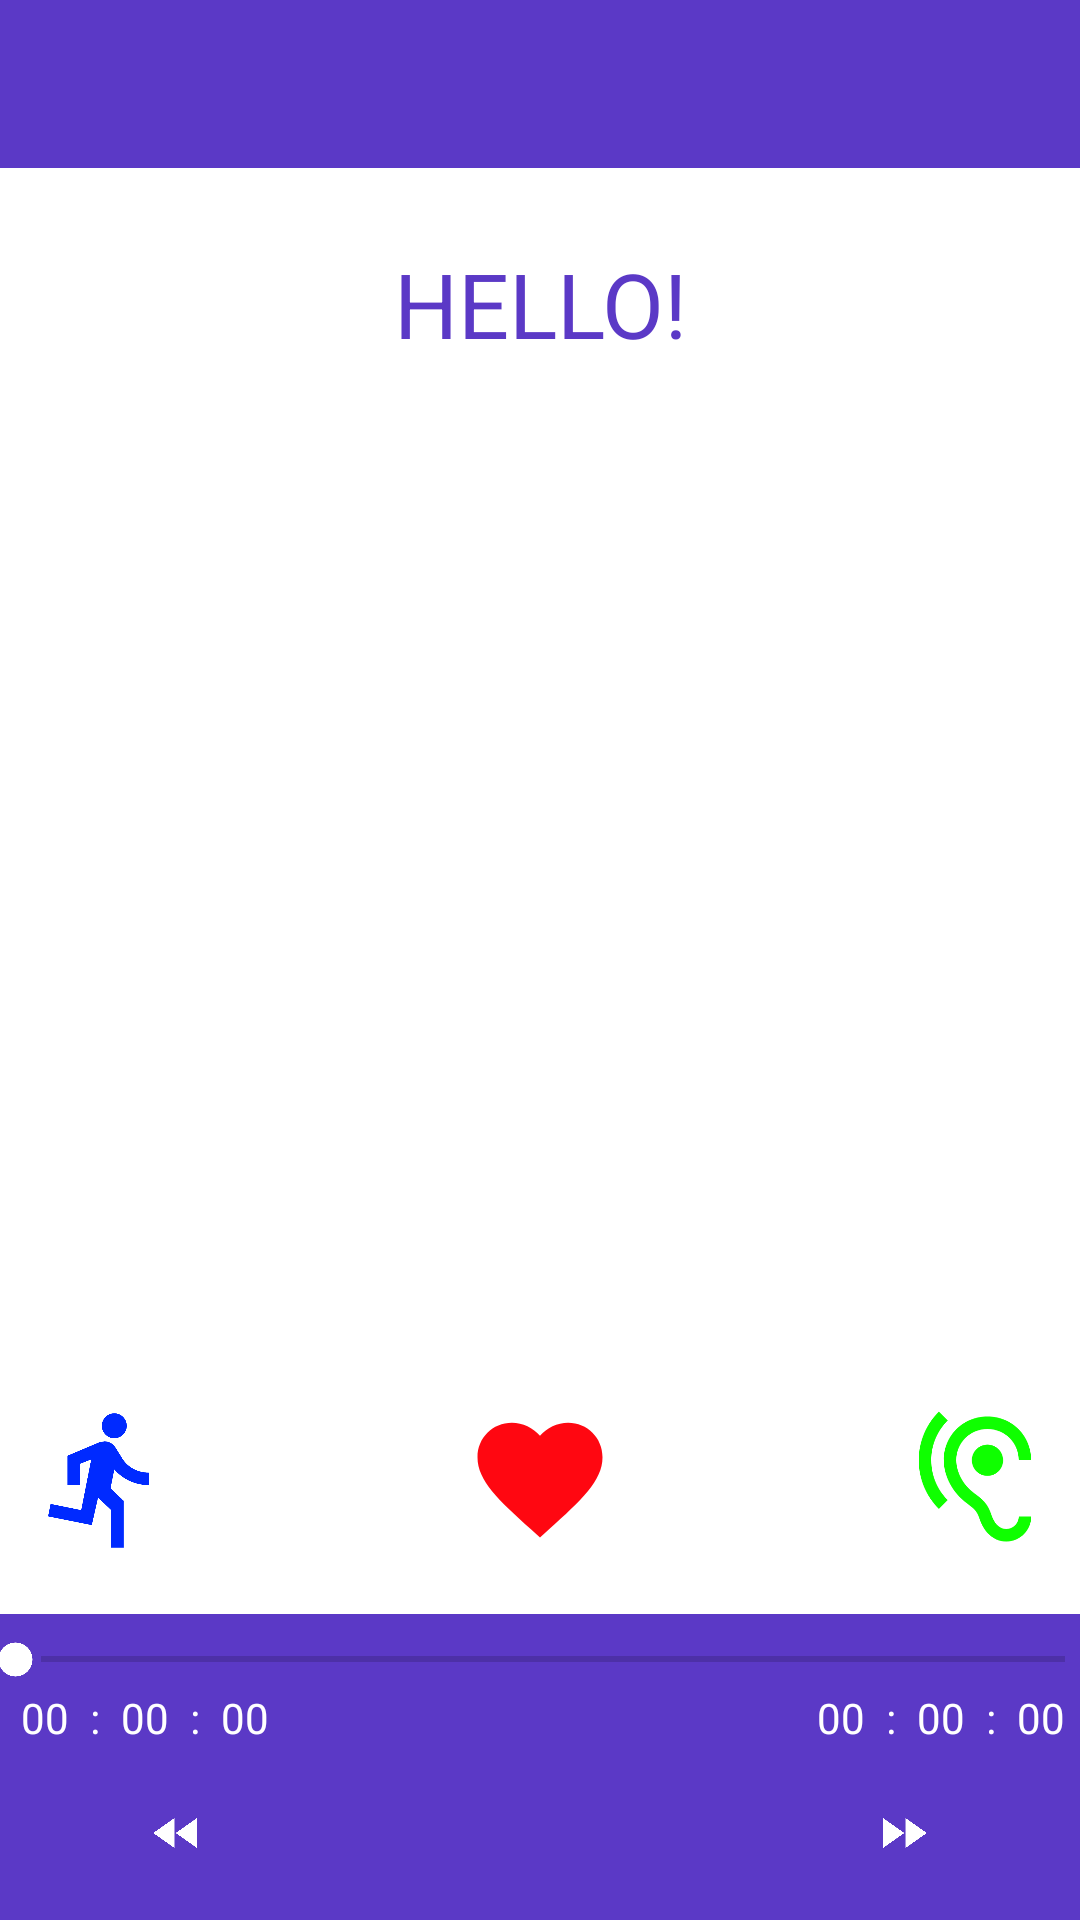

Point at icon controls on the screen. Image size 1080 × 1920, points as point (x, y).
directions run: point (98, 1480)
fast forward: point (904, 1833)
fast rewind: point (175, 1833)
favorite: point (540, 1480)
hearing: point (975, 1477)
